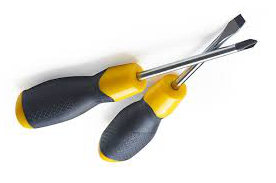screwdriver: (26, 11, 263, 159)
